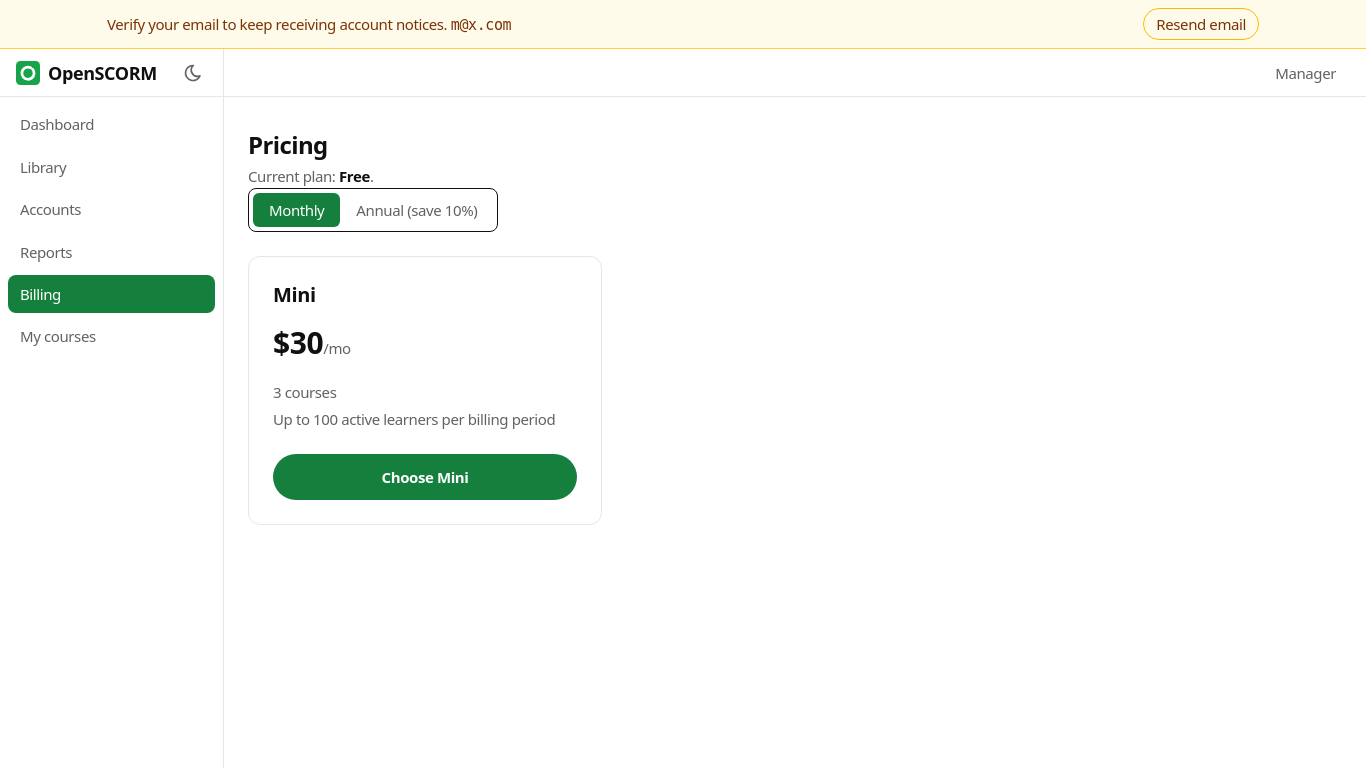
Test: Checkout refused for an unverified email › shows the server's sentence on the pricing page
This screenshot has width=1366, height=768.
Click the button "Choose Mini" at (425, 477), box [273,454,577,500]
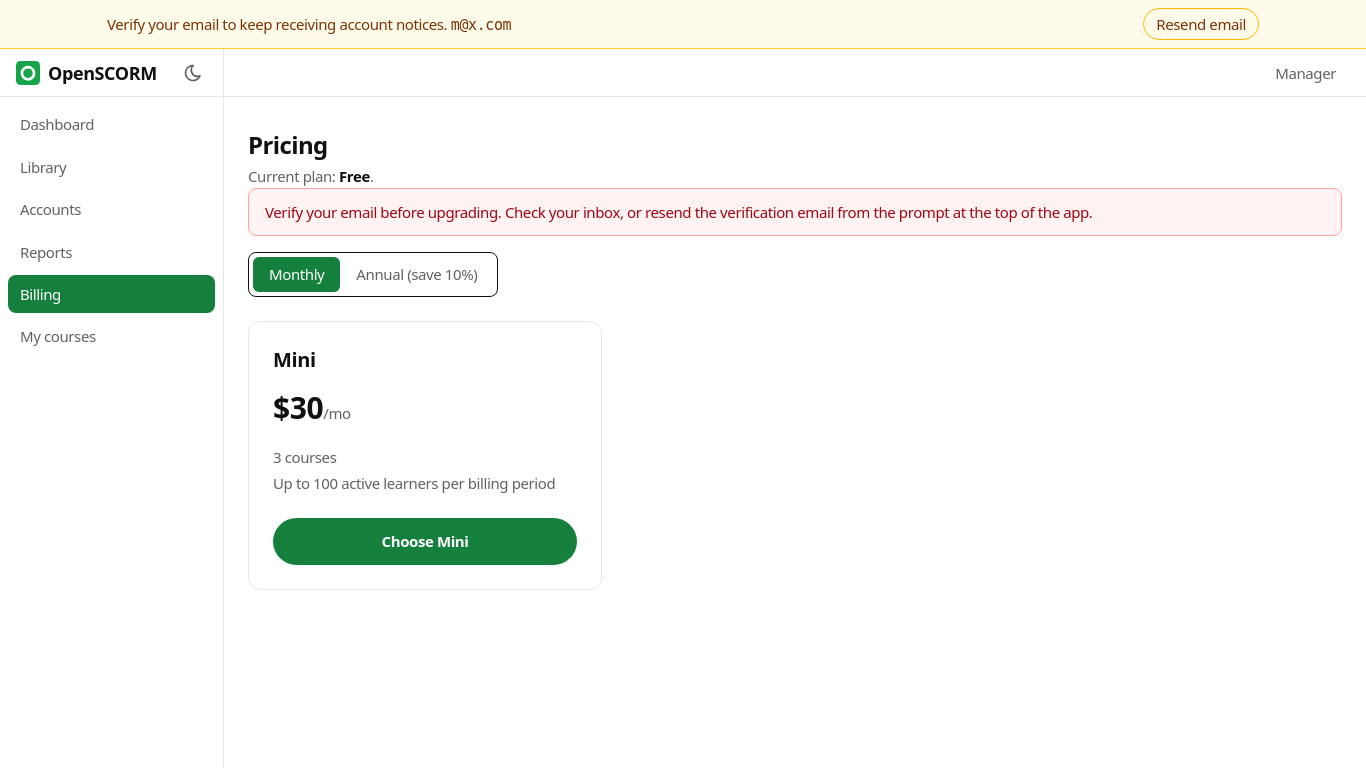
Expected: the 2nd message shows "Verify your email before upgrading. Check your inbox, or resend the verification email from the prompt at the top of the app.", [265,202,1092,222]
